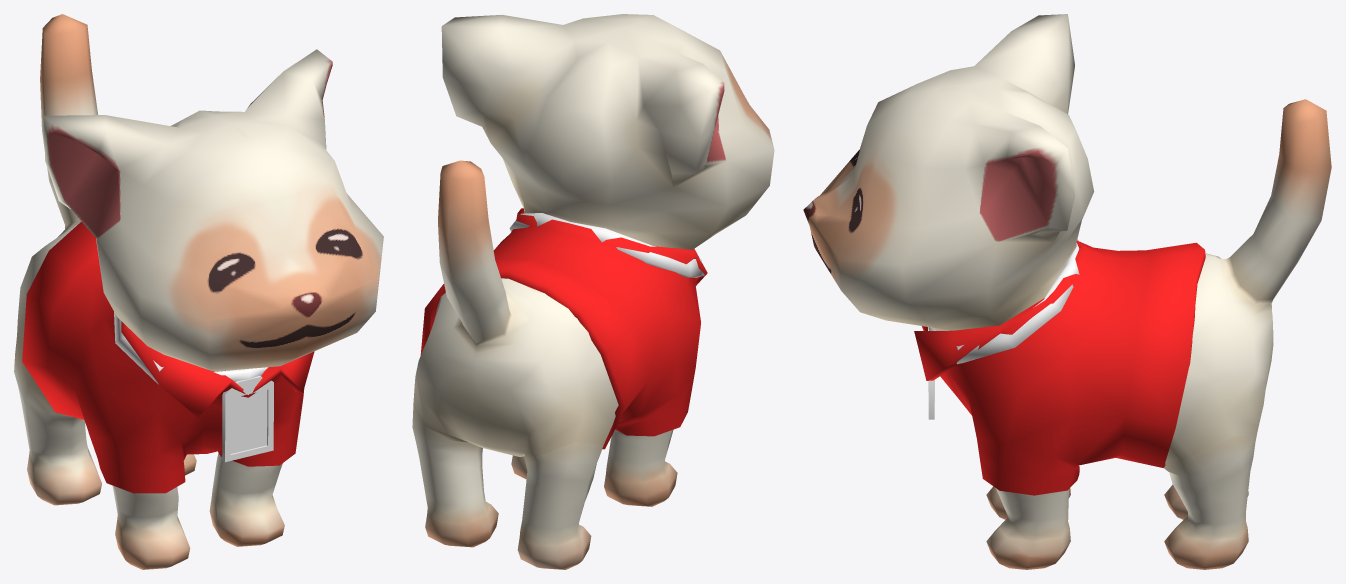
Rendered from LAMBs Cat02.fbx.
3 renders of one model, left to right at view 1: azimuth 30°, elevation 25°; view 2: azimuth 150°, elevation 25°; view 3: azimuth 270°, elevation 25°, orthographic. The views are drawn at different scales.
Visible parts, largest first — view 1: Cat_Base001, LAMBs_Cat_Shirt, LAMBs_Cat_ID; view 2: Cat_Base001, LAMBs_Cat_Shirt, LAMBs_Cat_ID; view 3: Cat_Base001, LAMBs_Cat_Shirt, LAMBs_Cat_ID.
Part boxes in pixels (x1,y1,x2,y2): Cat_Base001: [14, 14, 383, 569]; LAMBs_Cat_Shirt: [22, 221, 314, 493]; LAMBs_Cat_ID: [114, 312, 273, 462]; Cat_Base001: [412, 14, 774, 569]; LAMBs_Cat_Shirt: [420, 208, 707, 449]; LAMBs_Cat_ID: [509, 213, 704, 277]; Cat_Base001: [803, 14, 1331, 569]; LAMBs_Cat_Shirt: [914, 240, 1205, 495]; LAMBs_Cat_ID: [928, 239, 1079, 419].
Size of the model in its own units: 1.75 by 2.83 by 2.68.
3 materials, 1 textured.
